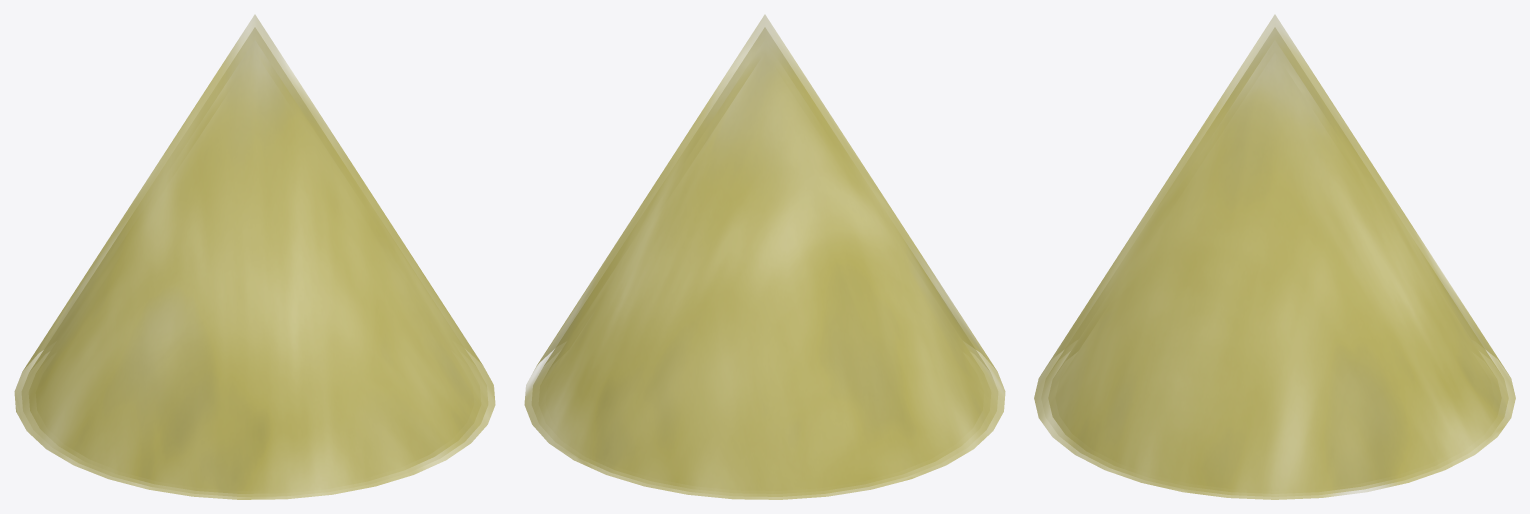
Rendered from mist_backroom.glb.
3 views of the same model, side by side, from view 1: azimuth 30°, elevation 25°; view 2: azimuth 150°, elevation 25°; view 3: azimuth 270°, elevation 25° (orthographic).
Visible parts, largest first — view 1: Cone.004, Cone.003, Cone.002; view 2: Cone.004, Cone.003, Cone.002; view 3: Cone.004, Cone.003, Cone.002, Cone.001.
Part boxes in pixels (left/top/right/bottom): Cone.004: left=14, top=15, right=495, bottom=499; Cone.003: left=22, top=28, right=487, bottom=495; Cone.002: left=30, top=41, right=452, bottom=493; Cone.004: left=524, top=15, right=1005, bottom=499; Cone.003: left=532, top=28, right=996, bottom=496; Cone.002: left=551, top=41, right=983, bottom=467; Cone.004: left=1034, top=15, right=1515, bottom=499; Cone.003: left=1049, top=28, right=1507, bottom=495; Cone.002: left=1049, top=41, right=1500, bottom=490; Cone.001: left=1332, top=360, right=1374, bottom=418.
Size of the model in its own units: 42.5 by 37.39 by 42.5.
Materials: 1 (1 with a texture image).
